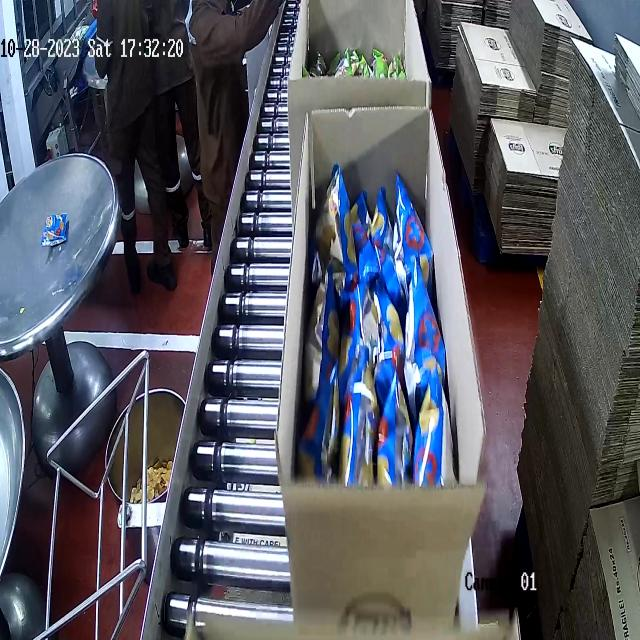PAPRIKA: (309, 171, 450, 474)
YOGURT_HERB: (310, 32, 405, 78)
